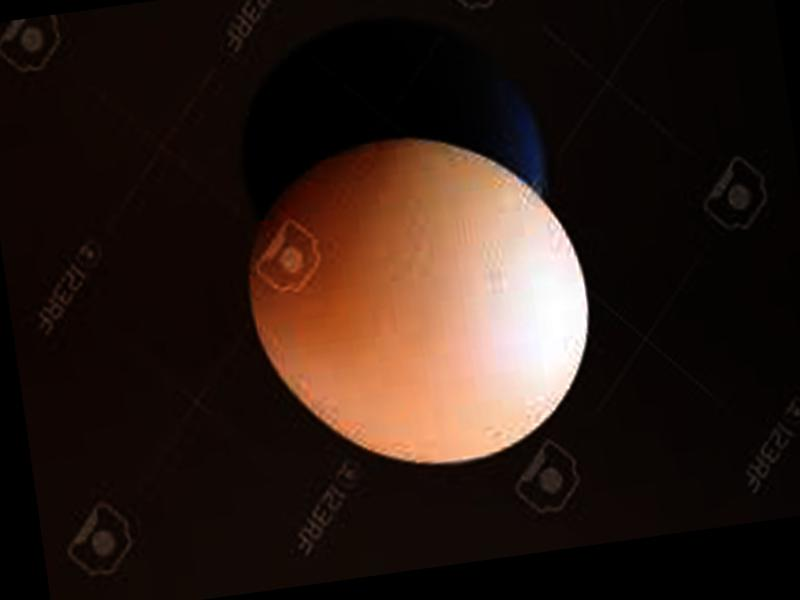Eggs: (231, 111, 609, 489)
